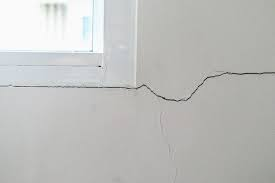crack: (135, 69, 274, 101)
